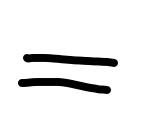eqv: (18, 54, 118, 93)
